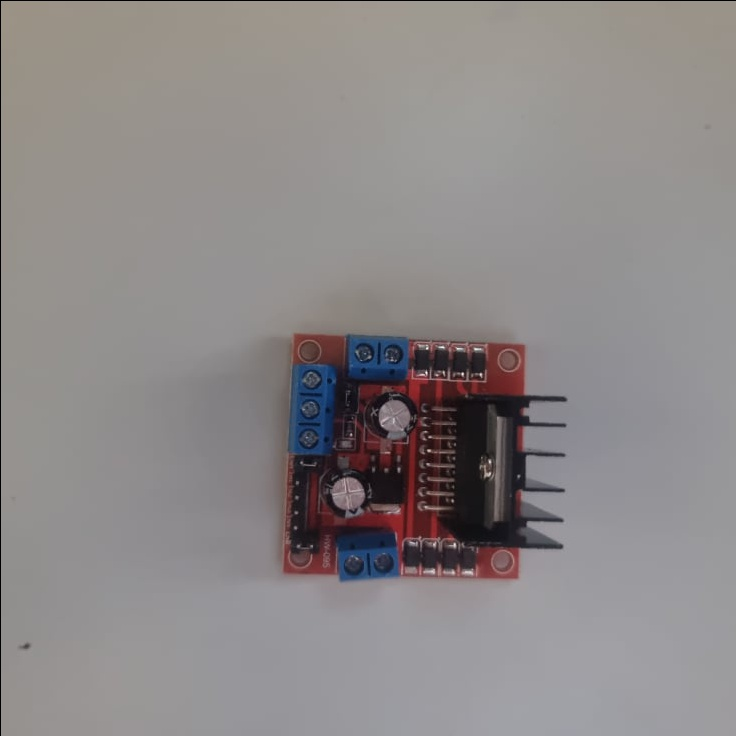MOTOR: (287, 330, 562, 581)
